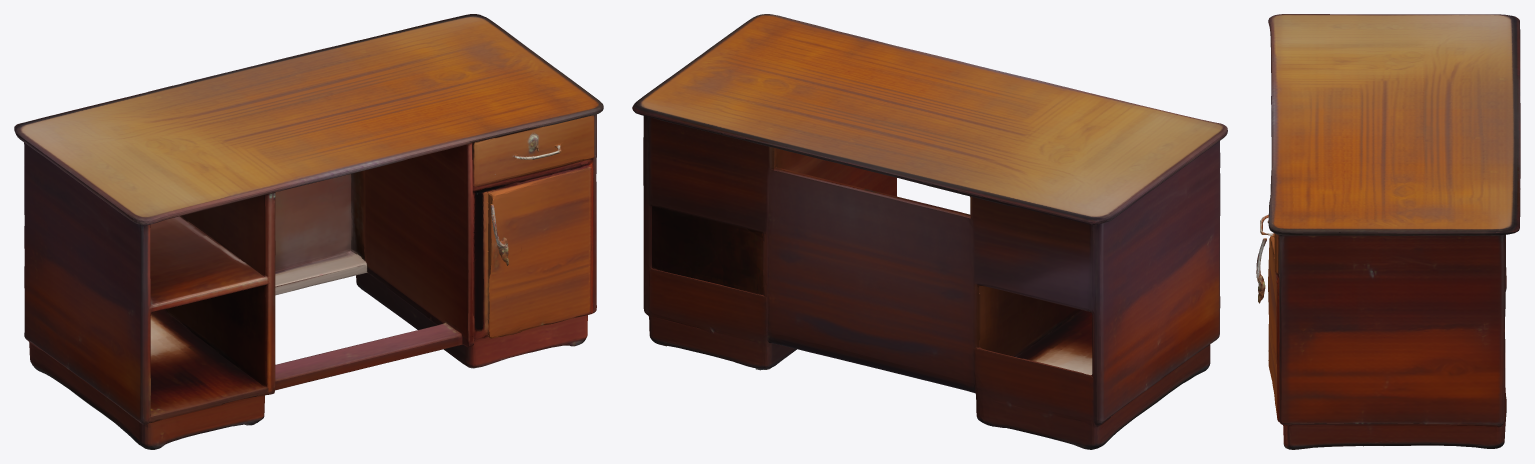
Rendered from Study Table.glb.
3 renders of one model, left to right at view 1: azimuth 30°, elevation 25°; view 2: azimuth 150°, elevation 25°; view 3: azimuth 270°, elevation 25°, orthographic. The views are drawn at different scales.
Visible parts, largest first — view 1: world; view 2: world; view 3: world.
Boxes of the visible parts, x1,y1,x2,y2 form: world: (14, 14, 603, 449); world: (632, 14, 1227, 449); world: (1256, 14, 1520, 449).
Size of the model in its own units: 1 by 0.4882 by 0.5115.
1 material, 1 textured.
